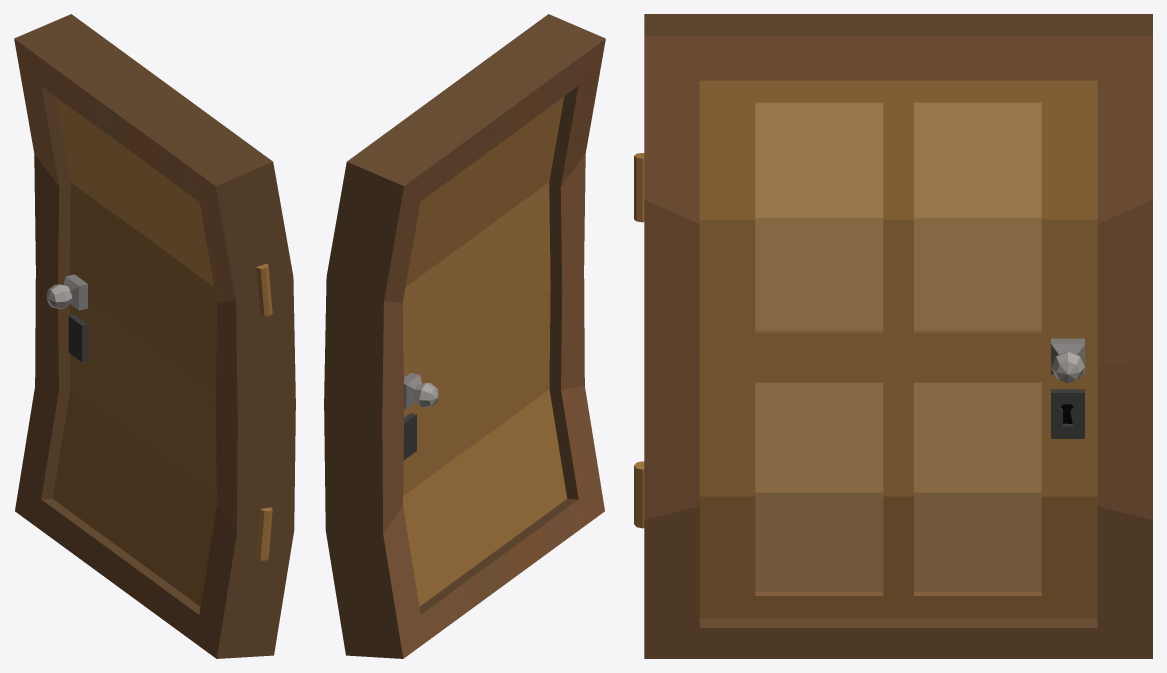
The model's file is door_broke.fbx.
The picture shows the model from 3 angles, left to right: view 1: azimuth 30°, elevation 25°; view 2: azimuth 150°, elevation 25°; view 3: azimuth 270°, elevation 25°; orthographic projection. The views are drawn at different scales.
Parts seen in each view (by area): view 1: Cube.012, Cube; view 2: Cube.012, Cube; view 3: Cube.012, Cube.
Boxes of the visible parts, x1,y1,x2,y2 form: Cube.012: [14, 14, 295, 658]; Cube: [46, 274, 88, 362]; Cube.012: [324, 14, 605, 658]; Cube: [403, 373, 438, 460]; Cube.012: [634, 14, 1152, 658]; Cube: [1051, 338, 1084, 438].
Bounding box in the file's own units: 87.39 × 405 × 306.
